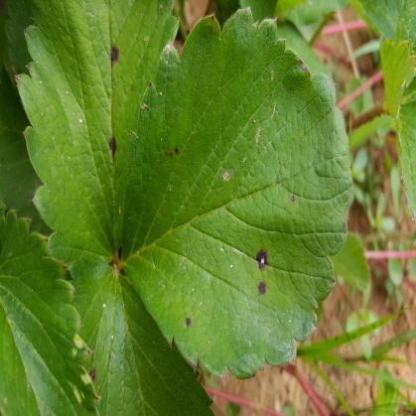Strawberry_Leaf_Spot: (120, 5, 354, 381), (12, 0, 180, 266), (69, 251, 216, 415)
